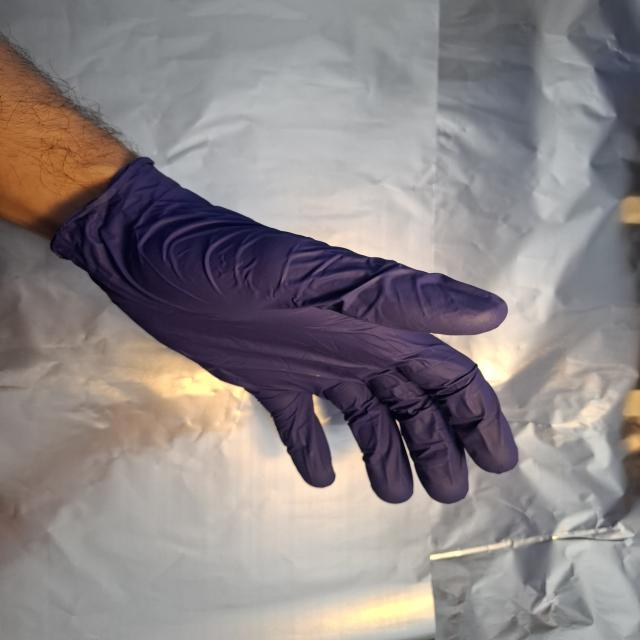glove_on: (59, 152, 525, 508)
